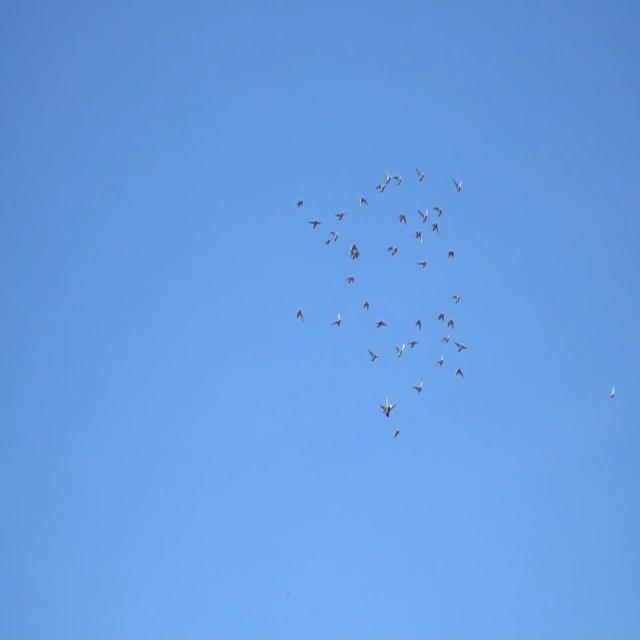bird: (384, 394, 395, 418), (449, 176, 464, 193), (366, 344, 378, 365), (394, 342, 406, 360), (412, 378, 424, 396), (453, 339, 467, 354), (418, 206, 429, 225), (414, 167, 426, 182), (408, 337, 420, 352), (383, 168, 392, 186), (330, 228, 340, 244), (378, 400, 388, 416), (309, 218, 322, 230), (434, 353, 445, 367), (432, 219, 440, 238), (454, 364, 464, 379), (413, 227, 422, 243), (295, 307, 304, 323), (376, 317, 388, 329), (433, 204, 443, 218), (331, 311, 341, 325), (358, 195, 369, 207), (350, 249, 361, 261), (416, 258, 427, 270), (344, 273, 355, 285), (295, 198, 305, 211), (387, 245, 398, 256), (376, 181, 386, 193), (334, 210, 346, 220), (451, 293, 461, 305), (392, 425, 401, 438), (322, 238, 333, 248), (399, 212, 408, 224), (610, 383, 616, 401), (394, 174, 402, 187), (347, 244, 360, 252), (448, 247, 456, 260), (446, 317, 454, 330), (436, 311, 444, 323), (442, 332, 450, 344), (414, 317, 421, 330), (362, 300, 371, 310)
